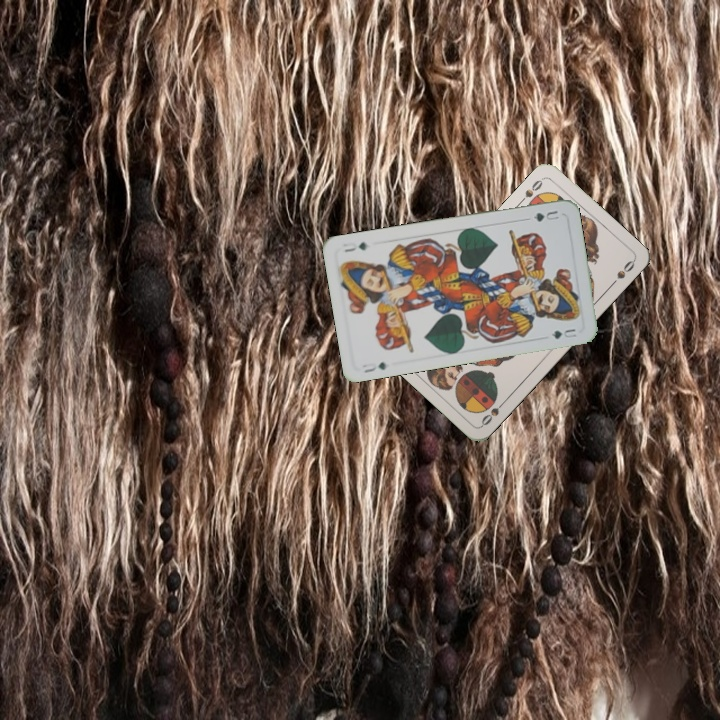GU: (528, 206, 561, 224), (360, 358, 388, 375)
SO: (515, 174, 547, 209), (477, 395, 509, 429)
